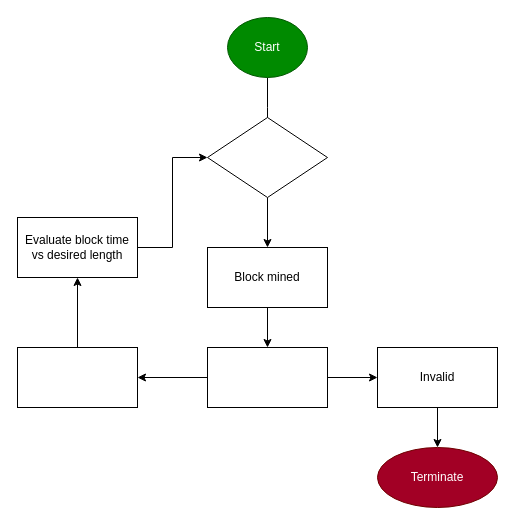
Some shapes in this 515 by 525 pixel diagram are drawn without their labels. The shapes that lost their labels are listed below. From the top down, each one's centre as x and y in pixels, then its label:
At point 267,157: "Adjust difficulty".
At point 77,377: "Valid".
At point 267,377: "Is block valid?".
